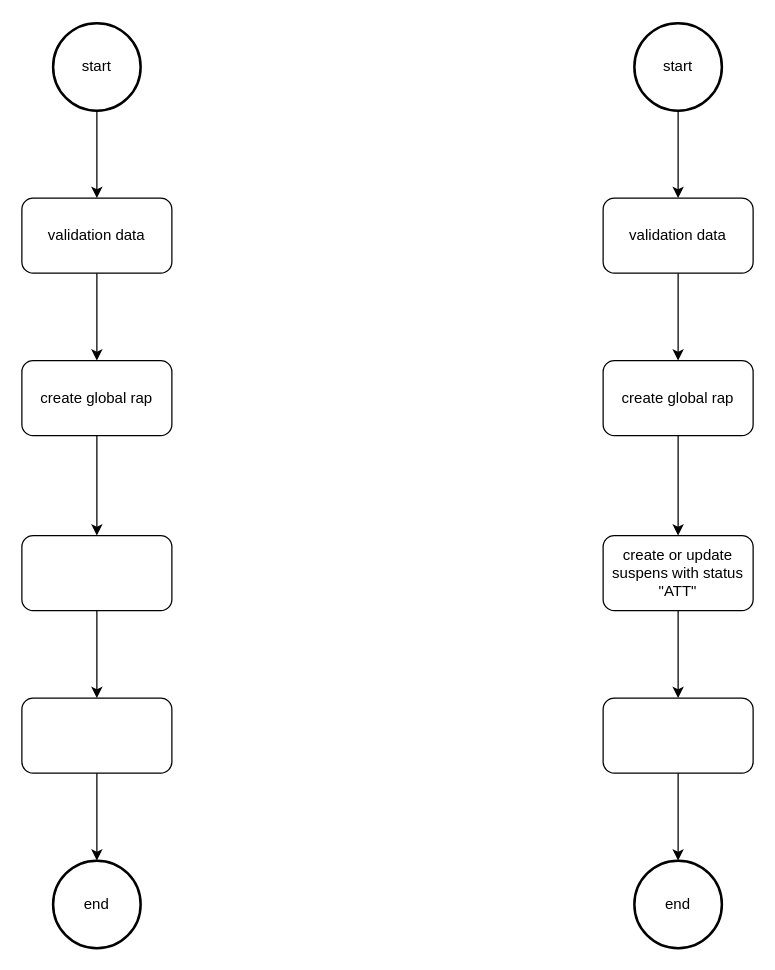
Some shapes in this 775 by 970 pixel diagram are drawn without their labels. The shapes that lost their labels are listed below. From the top down, each one's box as (x1, y1, x2, y2) in pixels, then its label:
(21, 534, 172, 611): create/update suspens with status "RAP"
(21, 697, 172, 773): create unity rap
(602, 697, 753, 773): create unity rap and update suspens status to "RAP"
